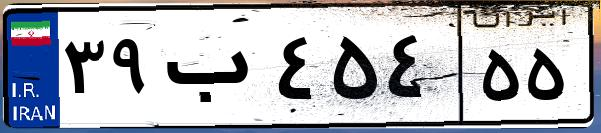3: (57, 26, 110, 100)
4: (270, 28, 330, 110), (385, 28, 445, 110)
5: (330, 28, 385, 110), (475, 38, 525, 113), (525, 38, 570, 115)
9: (110, 28, 158, 98)
ب: (158, 20, 270, 120)
